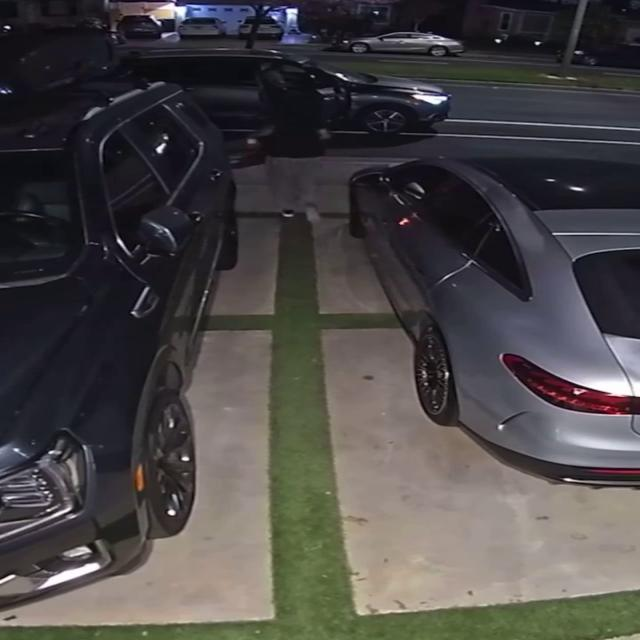Theft - Alert: (349, 157, 639, 489), (247, 66, 330, 223)
